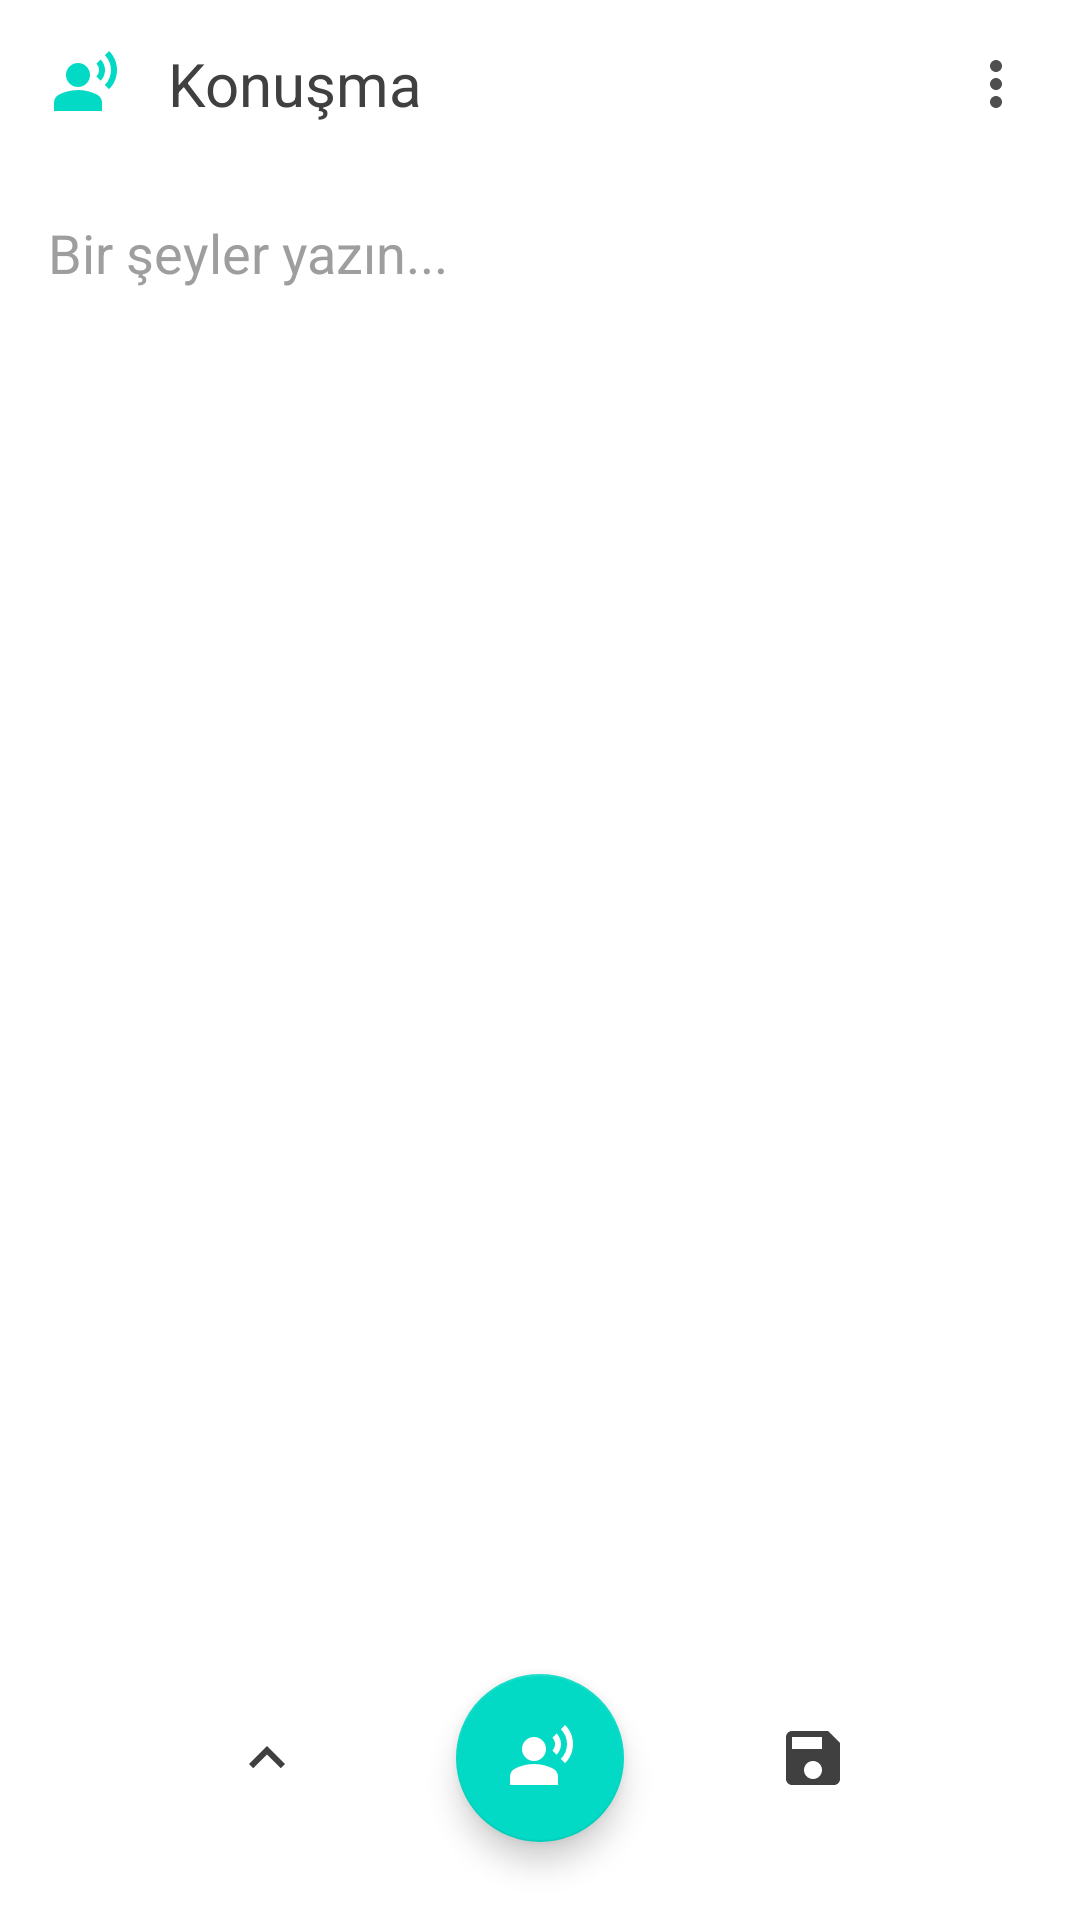

Point at icon controls on the screen. Image size 1080×1920, points as (x=x, y=y).
more vert: (x=996, y=84)
save: (x=813, y=1758)
spatial audio off: (x=85, y=81), (x=540, y=1758)
